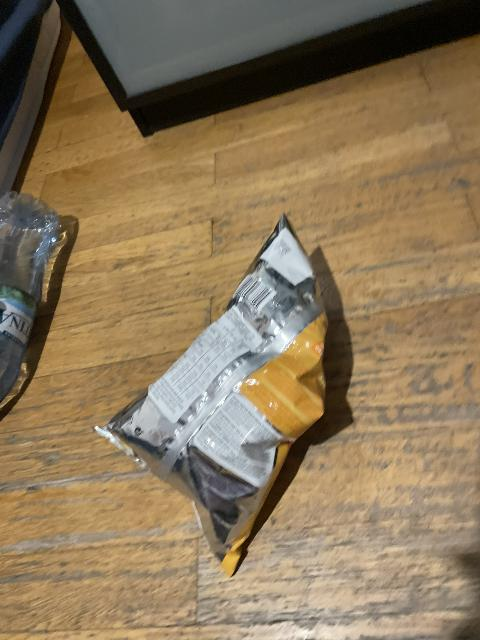Chio Hula Hoops Cheese 70g: (100, 219, 329, 574)
